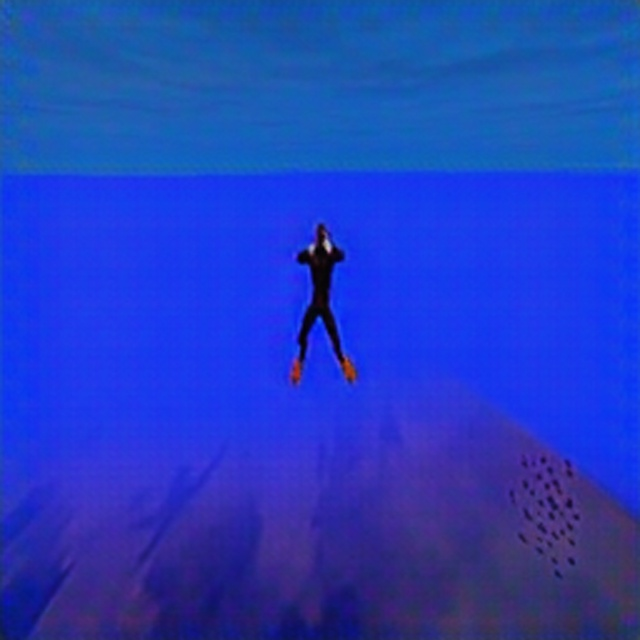diver: (288, 218, 357, 388)
